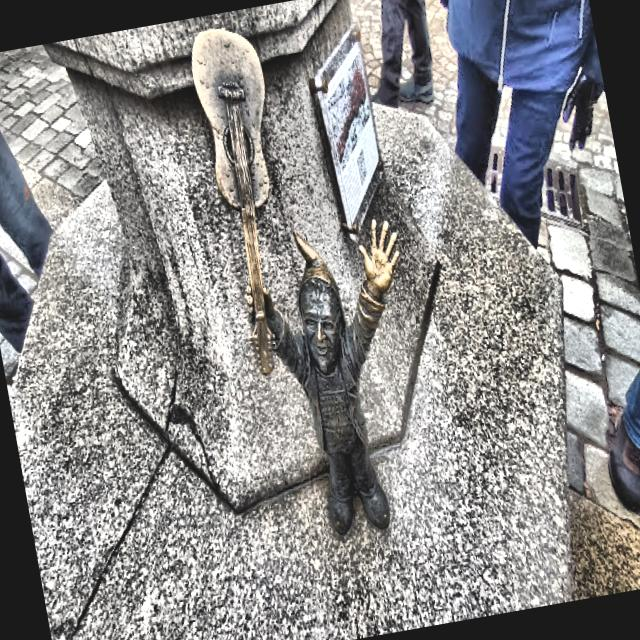Leszko_z_Wroclawia: (191, 28, 399, 539)
